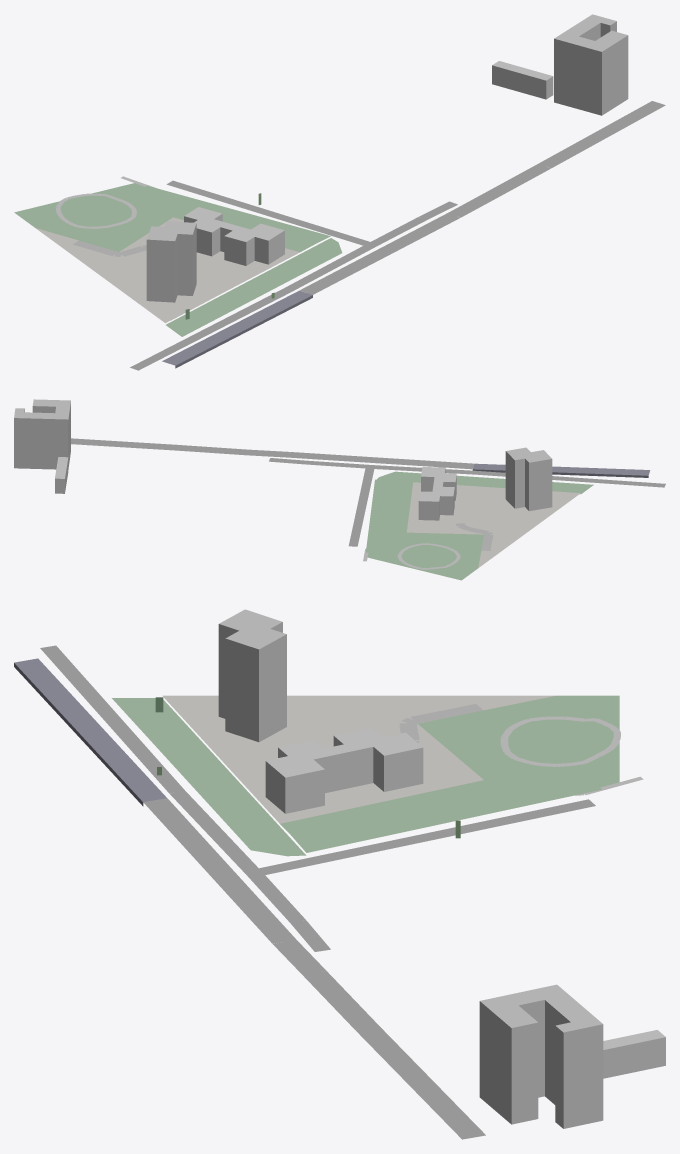
3 views of the same model, one above another, from view 1: azimuth 30°, elevation 25°; view 2: azimuth 150°, elevation 25°; view 3: azimuth 270°, elevation 25° (orthographic). The views are drawn at different scales.
Bounding box in the file's own units: 470 × 44.78 × 262.
